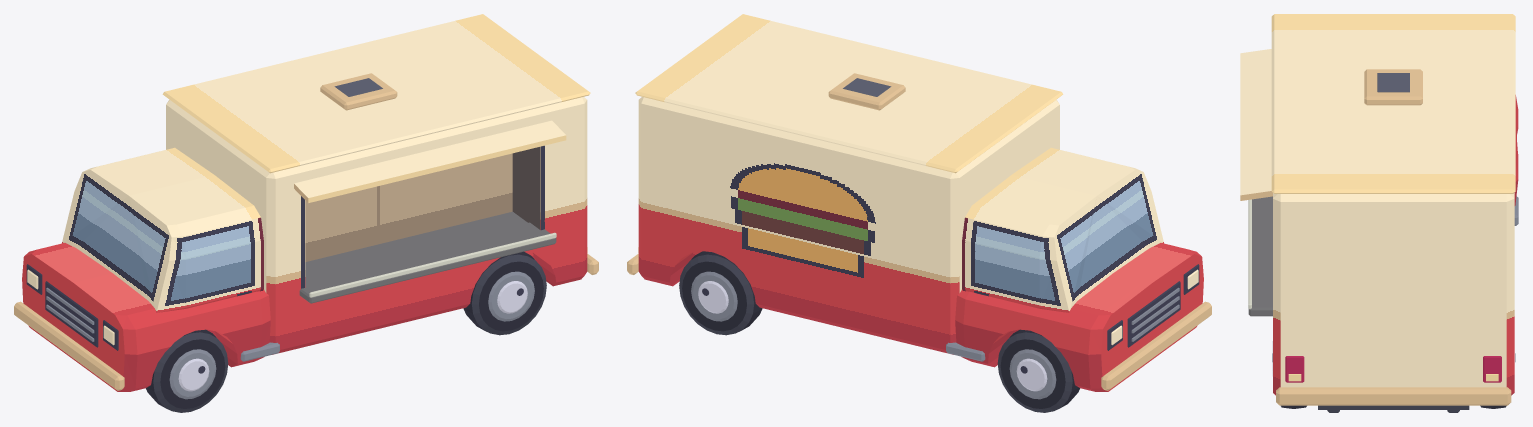
The picture shows the model from 3 angles, left to right: view 1: azimuth 30°, elevation 25°; view 2: azimuth 150°, elevation 25°; view 3: azimuth 270°, elevation 25°; orthographic projection. The views are drawn at different scales.
Parts seen in each view (by area): view 1: Body_static, Wheel_RL_tire_hub, Wheel_FL_tire_hub; view 2: Body_static, Wheel_RR_tire_hub, Wheel_FR_tire_hub; view 3: Body_static.
Boxes of the visible parts, x1,y1,x2,y2 form: Body_static: (14, 14, 598, 391); Wheel_RL_tire_hub: (463, 251, 546, 335); Wheel_FL_tire_hub: (146, 329, 228, 412); Body_static: (627, 14, 1211, 391); Wheel_RR_tire_hub: (679, 251, 762, 335); Wheel_FR_tire_hub: (997, 329, 1079, 412); Body_static: (1240, 14, 1518, 412).
Size of the model in its own units: 104 by 48.7 by 46.09.
Materials: 1 (1 with a texture image).
